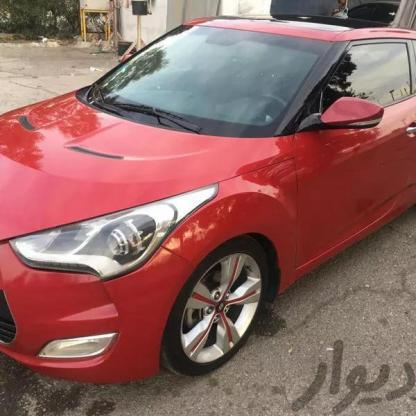Car: (0, 14, 416, 386)
